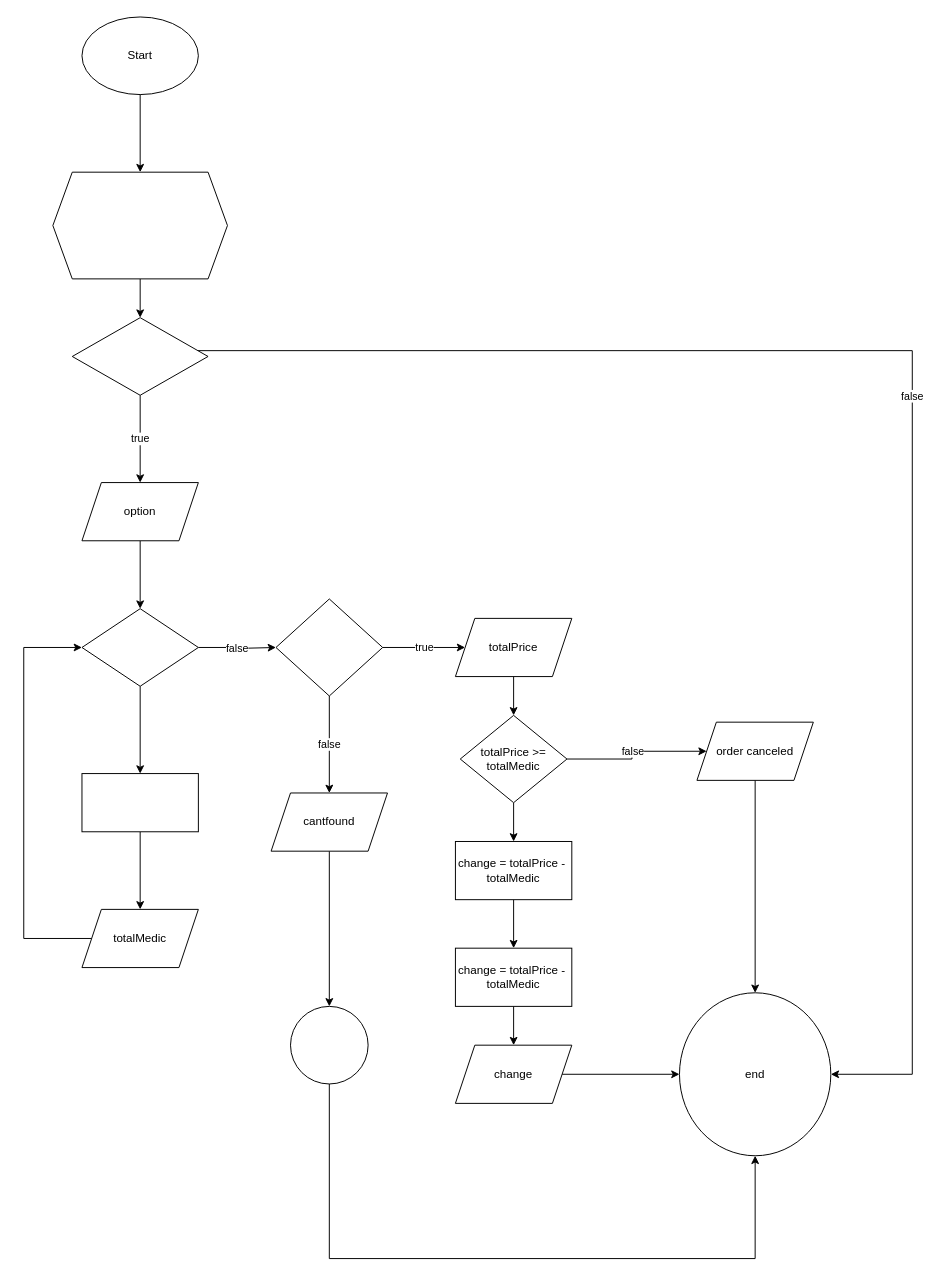
Image size: 940x1283. Some labels were removed from this diagram. Each missing label, with the box of its shape:
int option double total Price, change,totalMedic: (52, 171, 227, 279)
option = 1/2/3/4: (81, 608, 198, 686)
option = 5: (275, 598, 383, 696)
totalMedic =+ price: (81, 773, 198, 832)
while: (71, 317, 208, 395)
